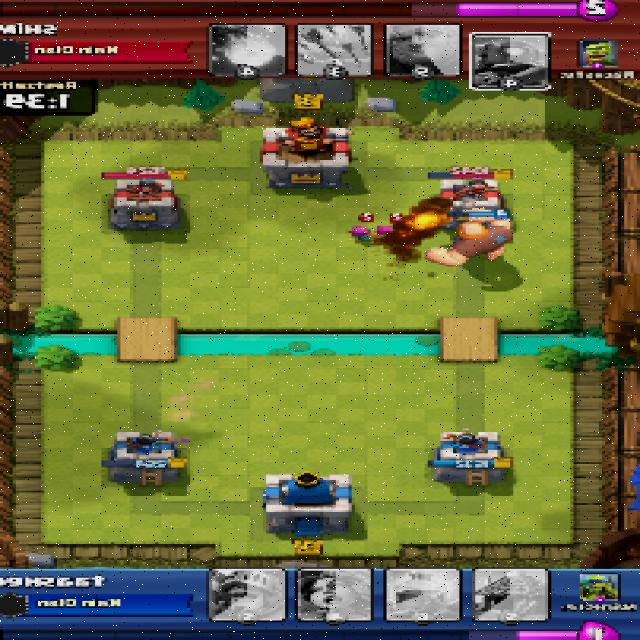Enemy-Archer: (349, 226, 382, 244), (375, 224, 403, 245)
Player-Fireball: (402, 204, 450, 236)
Player-Giant: (425, 209, 512, 265)
